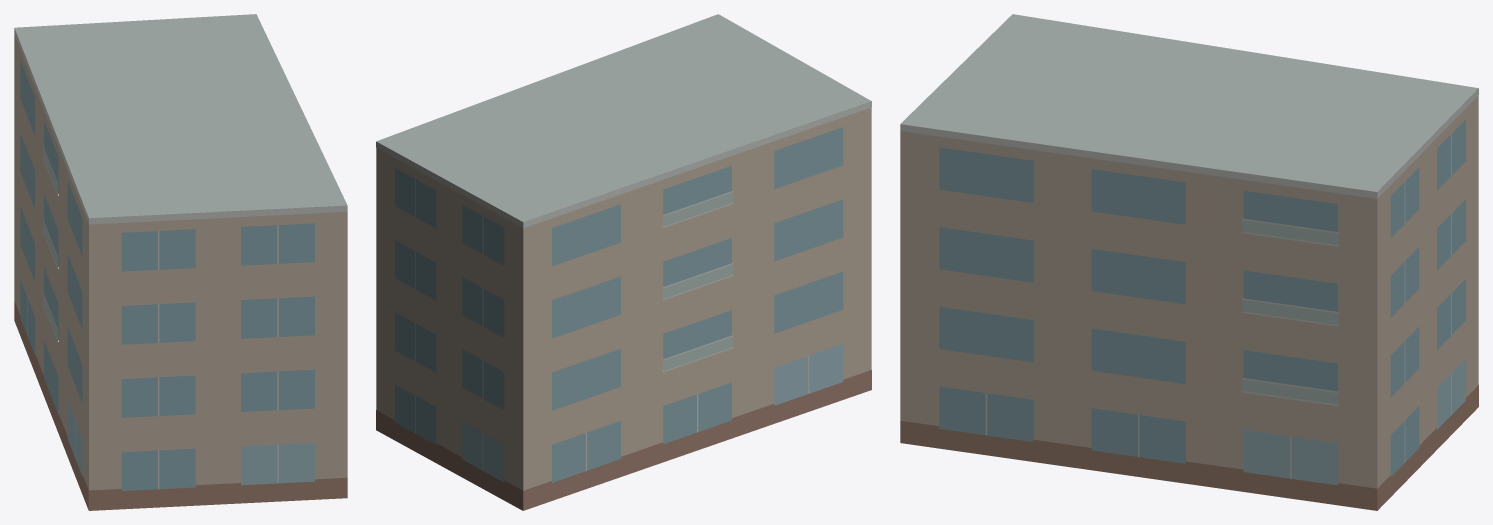
File: survey-upis-32488672.glb
3 renders of one model, left to right at view 1: azimuth 30°, elevation 25°; view 2: azimuth 150°, elevation 25°; view 3: azimuth 270°, elevation 25°, orthographic. The views are drawn at different scales.
Visible parts, largest first — view 1: survey-upis-32488672.tmp; view 2: survey-upis-32488672.tmp; view 3: survey-upis-32488672.tmp.
Boxes of the visible parts, x1,y1,x2,y2 form: survey-upis-32488672.tmp: [14, 14, 347, 510]; survey-upis-32488672.tmp: [376, 14, 871, 510]; survey-upis-32488672.tmp: [900, 14, 1478, 510].
Bounding box in the file's own units: 13.55 × 11.3 × 18.6.
